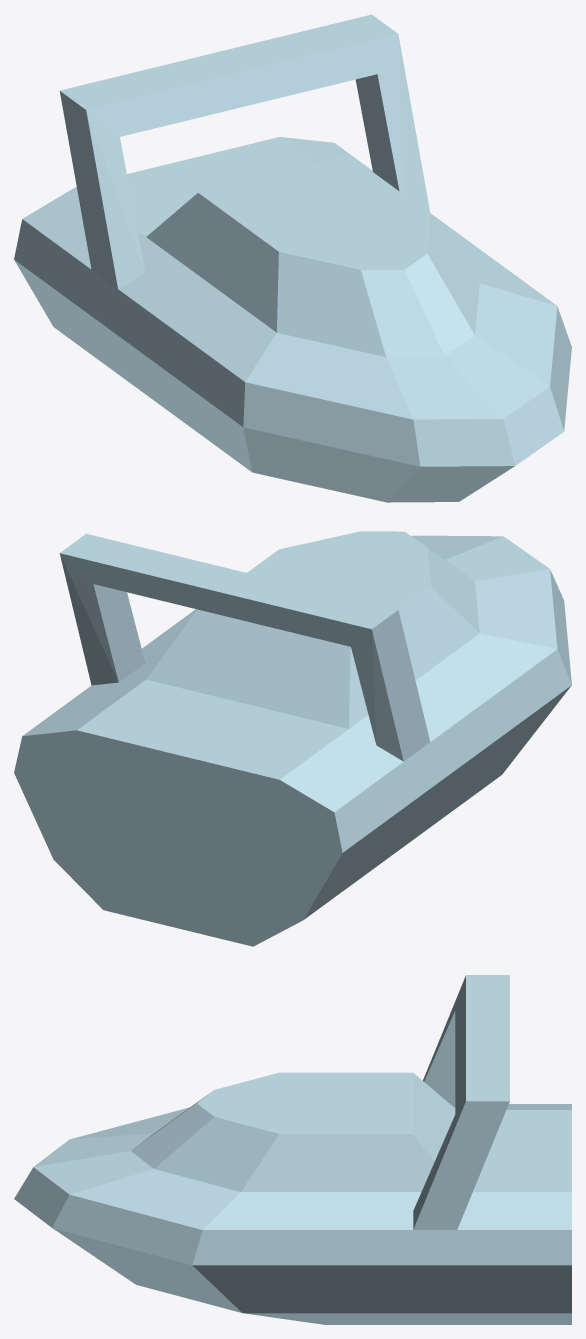
The model's file is watercraftpack_022.glb.
The picture shows the model from 3 angles, top to bottom: view 1: azimuth 30°, elevation 25°; view 2: azimuth 150°, elevation 25°; view 3: azimuth 270°, elevation 25°; orthographic projection. The views are drawn at different scales.
Parts seen in each view (by area): view 1: Mesh1 Group1 Model; view 2: Mesh1 Group1 Model; view 3: Mesh1 Group1 Model.
Boxes of the visible parts, left/top/right/bottom form: Mesh1 Group1 Model: left=14, top=14, right=571, bottom=502; Mesh1 Group1 Model: left=14, top=531, right=571, bottom=946; Mesh1 Group1 Model: left=14, top=975, right=571, bottom=1324.
Size of the model in its own units: 1.78 by 1.61 by 3.17.
